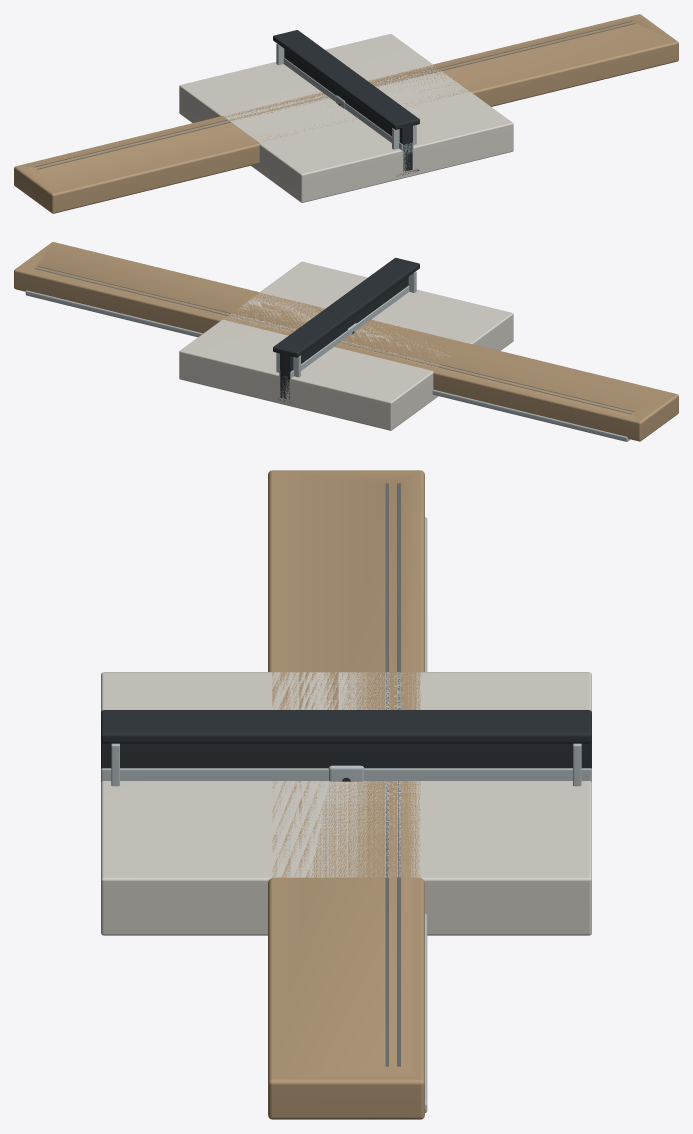
The model's file is stair-library.glb.
3 views of the same model, one above another, from view 1: azimuth 30°, elevation 25°; view 2: azimuth 150°, elevation 25°; view 3: azimuth 270°, elevation 25° (orthographic). The views are drawn at different scales.
Parts seen in each view (by area): view 1: stair-landing / Stair limestone, stair-tread / Stair oak, stair-stringer / Stair graphite structure, stair-tread / Stair inset grip, stair-shoe / Stair brushed steel, stair-stringer / Stair brushed steel; view 2: stair-tread / Stair oak, stair-landing / Stair limestone, stair-stringer / Stair graphite structure, stair-tread / Stair brushed steel, stair-tread / Stair inset grip, stair-shoe / Stair brushed steel, stair-stringer / Stair brushed steel; view 3: stair-tread / Stair oak, stair-landing / Stair limestone, stair-stringer / Stair graphite structure, stair-shoe / Stair brushed steel, stair-tread / Stair inset grip, stair-tread / Stair brushed steel.
Boxes of the visible parts, left/top/right/bottom form: stair-landing / Stair limestone: left=179, top=34, right=513, bottom=202; stair-tread / Stair oak: left=14, top=14, right=678, bottom=213; stair-stringer / Stair graphite structure: left=273, top=30, right=419, bottom=176; stair-tread / Stair inset grip: left=34, top=21, right=634, bottom=169; stair-shoe / Stair brushed steel: left=283, top=58, right=413, bottom=153; stair-stringer / Stair brushed steel: left=276, top=43, right=416, bottom=149; stair-tread / Stair oak: left=14, top=242, right=678, bottom=441; stair-landing / Stair limestone: left=179, top=261, right=513, bottom=430; stair-stringer / Stair graphite structure: left=273, top=257, right=419, bottom=402; stair-tread / Stair brushed steel: left=25, top=290, right=630, bottom=441; stair-tread / Stair inset grip: left=34, top=266, right=634, bottom=414; stair-shoe / Stair brushed steel: left=279, top=285, right=409, bottom=379; stair-stringer / Stair brushed steel: left=276, top=271, right=416, bottom=377; stair-tread / Stair oak: left=268, top=470, right=424, bottom=1119; stair-landing / Stair limestone: left=101, top=672, right=591, bottom=935; stair-stringer / Stair graphite structure: left=101, top=710, right=591, bottom=768; stair-shoe / Stair brushed steel: left=101, top=768, right=591, bottom=781; stair-tread / Stair inset grip: left=385, top=483, right=400, bottom=1066; stair-tread / Stair brushed steel: left=425, top=517, right=427, bottom=1112.
Size of the model in its own units: 2.95 by 0.25 by 1.
